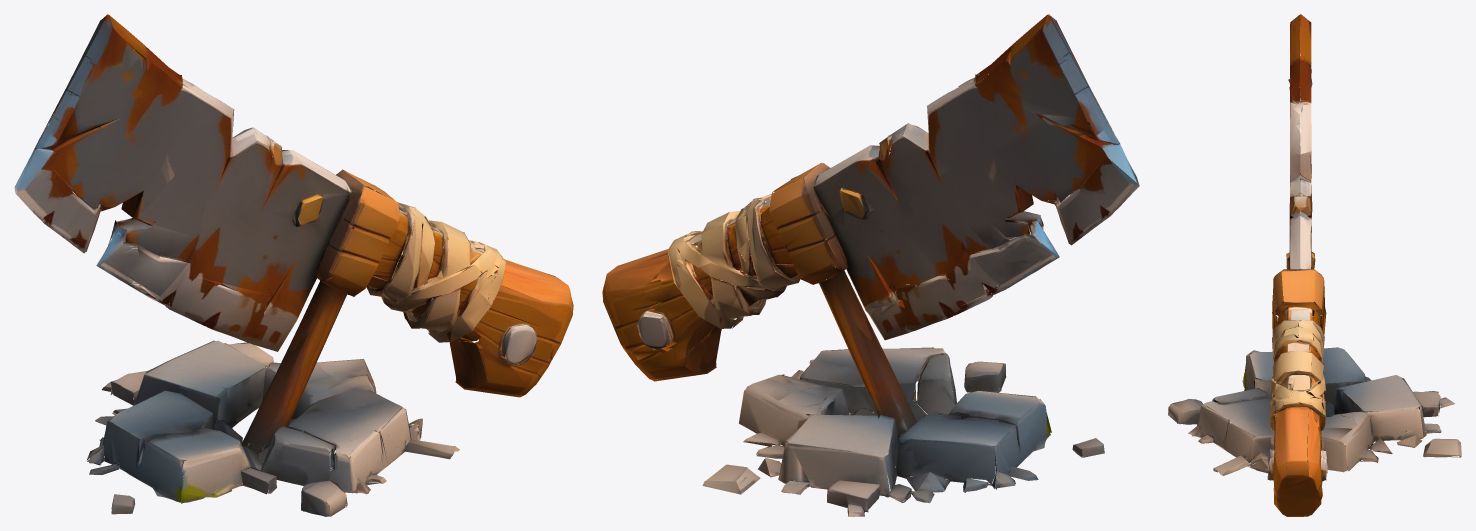
File: cleaver.glb
3 views of the same model, side by side, from view 1: azimuth 30°, elevation 25°; view 2: azimuth 150°, elevation 25°; view 3: azimuth 270°, elevation 25° (orthographic). The views are drawn at different scales.
Visible parts, largest first — view 1: cleaver; view 2: cleaver; view 3: cleaver.
Part boxes in pixels (x1=…): cleaver: x1=14, y1=14, x2=573, y2=516; cleaver: x1=602, y1=14, x2=1139, y2=516; cleaver: x1=1168, y1=14, x2=1461, y2=516.
Size of the model in its own units: 1.04 by 0.8563 by 0.6414.
1 material, 1 textured.
